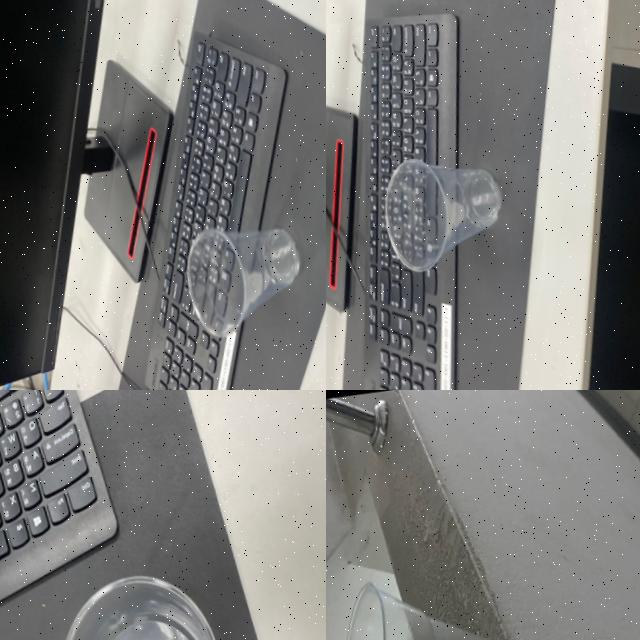glass: (374, 140, 528, 282), (178, 211, 324, 345), (37, 559, 251, 640), (326, 558, 535, 640)
